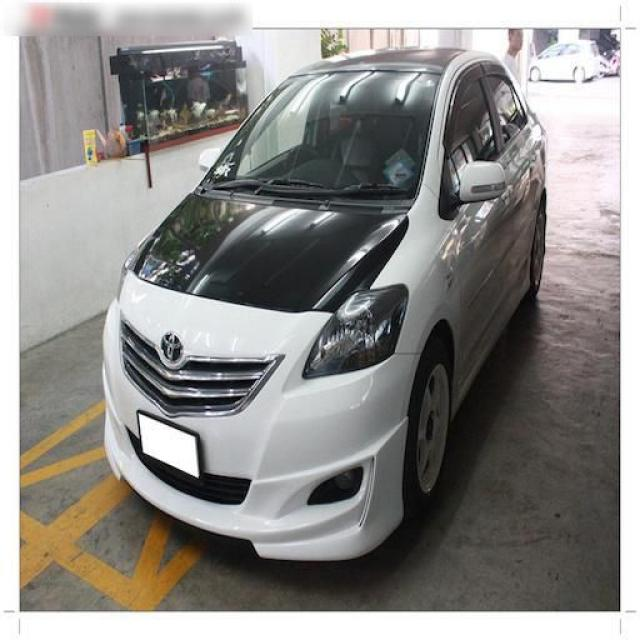back_left_door: (480, 57, 540, 307)
front_bumper: (102, 269, 422, 560)
front_glass: (197, 71, 441, 214)
front_left_door: (440, 58, 516, 383)
front_left_light: (302, 282, 410, 379)
hood: (132, 192, 410, 312)
left_mirror: (459, 159, 507, 204)
right_mirror: (199, 147, 221, 173)
wheel: (408, 342, 450, 501), (533, 201, 547, 289)
